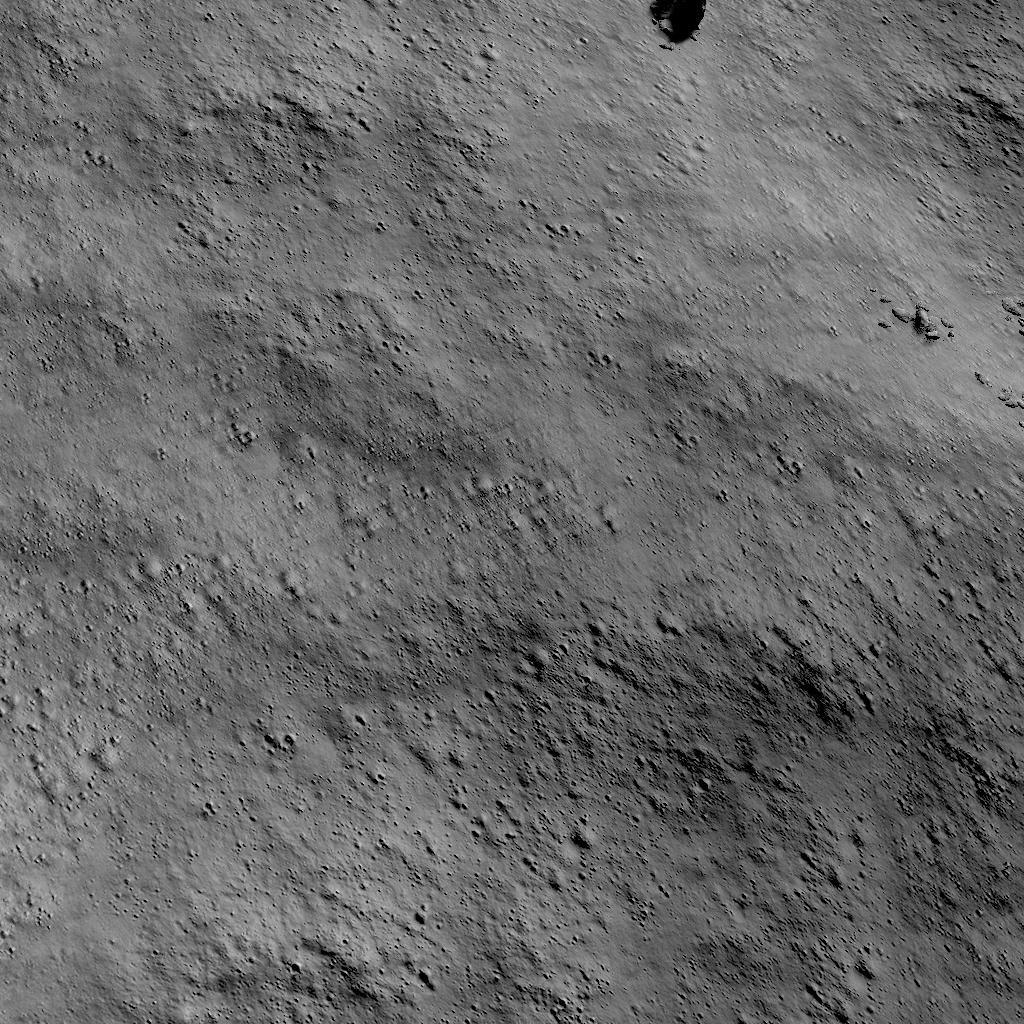Plan surface: (0, 62, 878, 1024)
